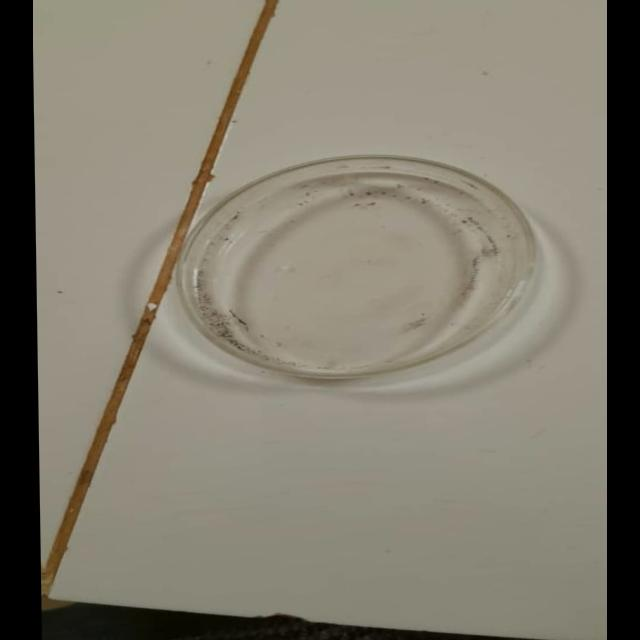Pedrish: (169, 131, 553, 398)
